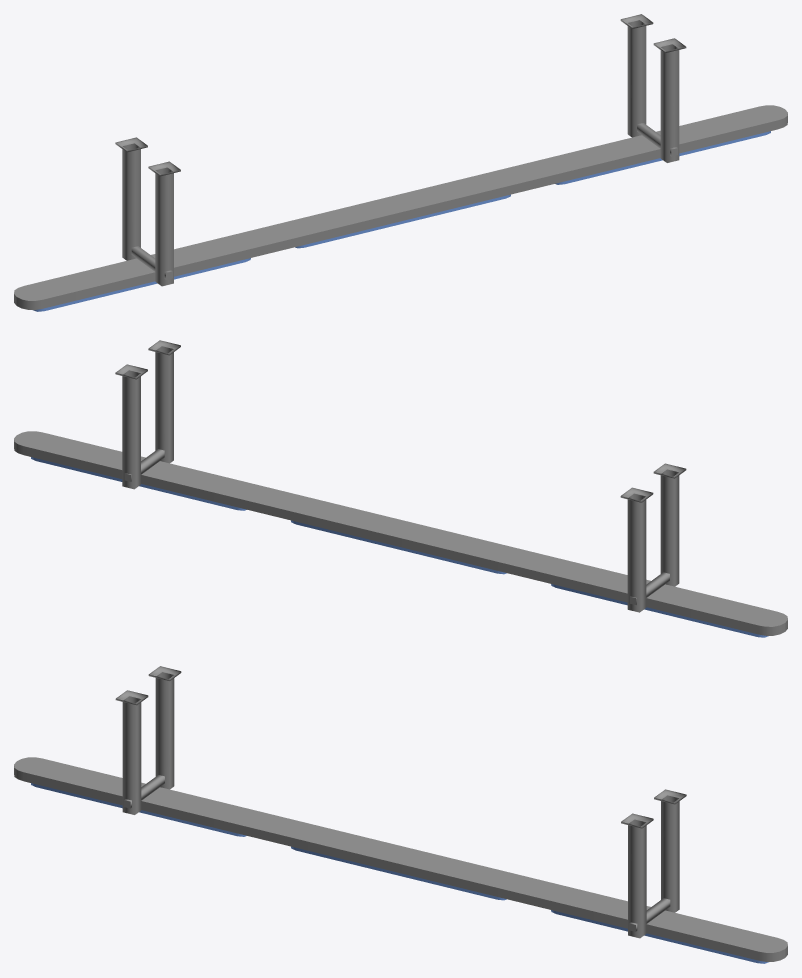
The model's file is SM_Light_B.FBX.
3 views of the same model, one above another, from view 1: azimuth 30°, elevation 25°; view 2: azimuth 150°, elevation 25°; view 3: azimuth 330°, elevation 25° (orthographic).
Visible parts, largest first — view 1: SM_Light_B; view 2: SM_Light_B; view 3: SM_Light_B.
Boxes of the visible parts, x1,y1,x2,y2 form: SM_Light_B: (14,14,787,311); SM_Light_B: (14,340,787,637); SM_Light_B: (14,666,787,963).
Bounding box in the file's own units: 307 × 47.79 × 30.73.
